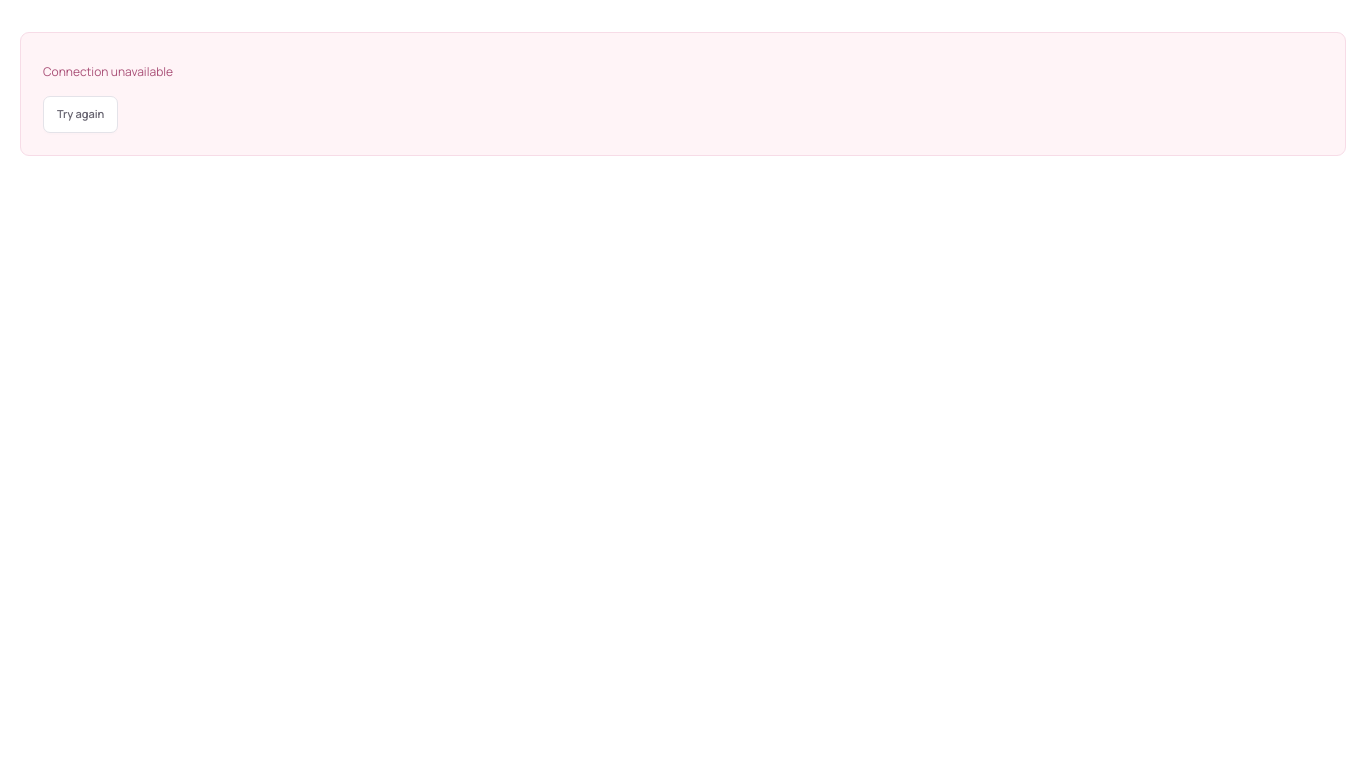
Test: a failed order detail request can be retried successfully
expect the message "Connection unavailable Try again" is shown: met, box [20, 32, 1346, 156]
Click the button "Try again". click: (81, 114)
box: [43, 96, 118, 132]
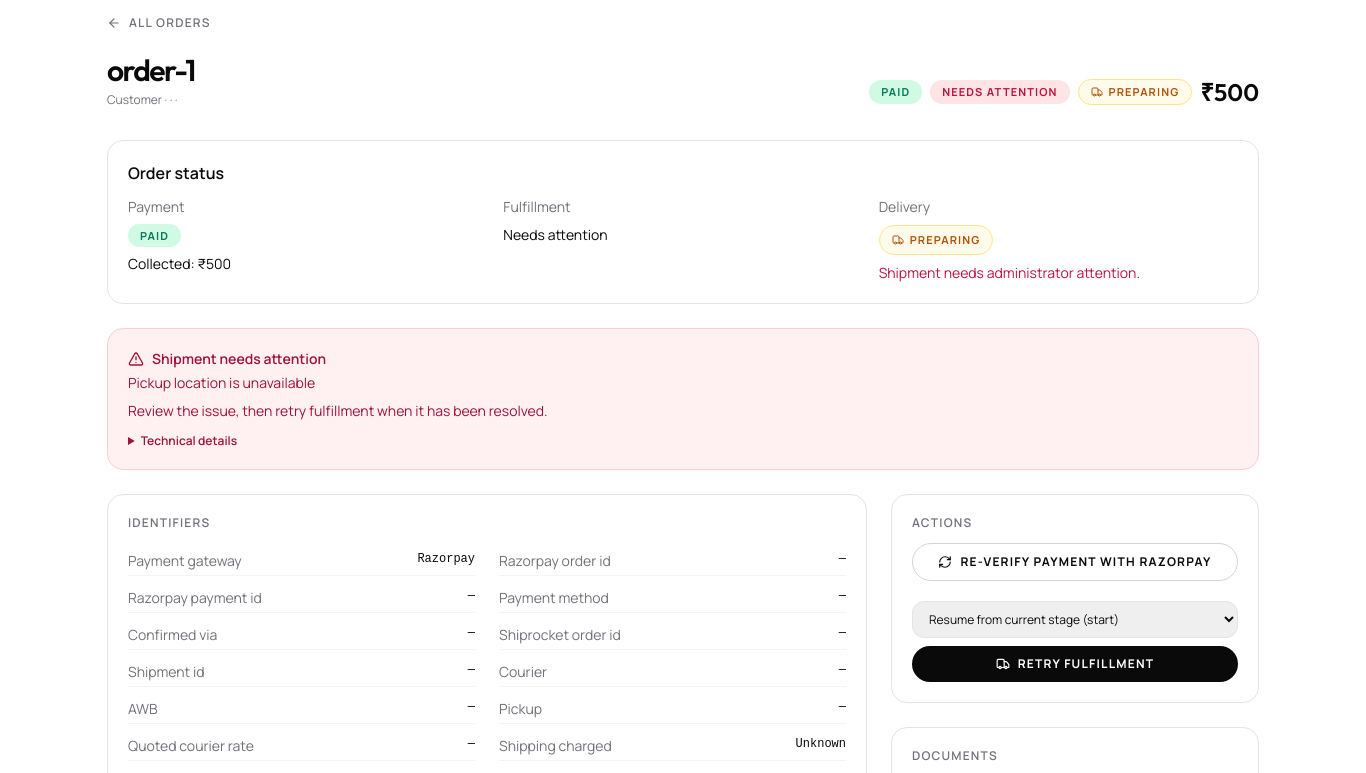
expect the element named "Order status" is shown: met, box [107, 140, 1259, 304]
